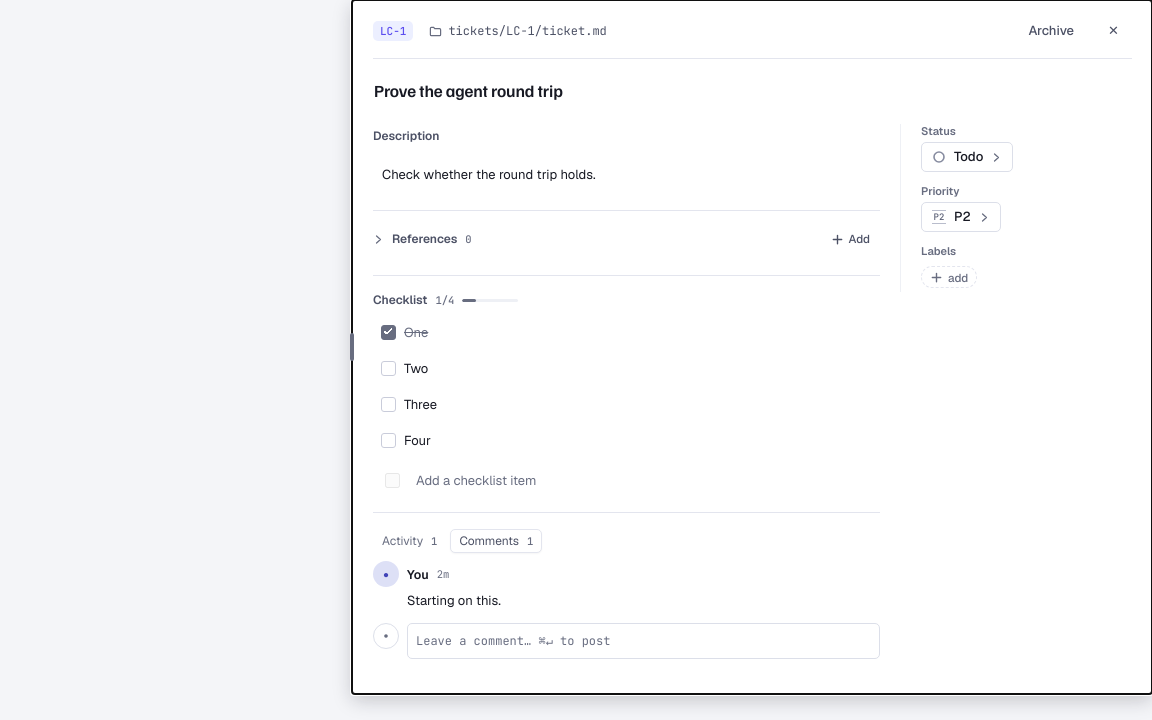
the checklist meter in the panel › fills to the fraction beside it, and moves as a box is ticked
The width and height of the screenshot is (1152, 720).
Check: the text "1/4" is shown, box [436,293,454,307]
Click the checkbox labelled "Two". click: point(388, 368)
box: [381,361,396,376]
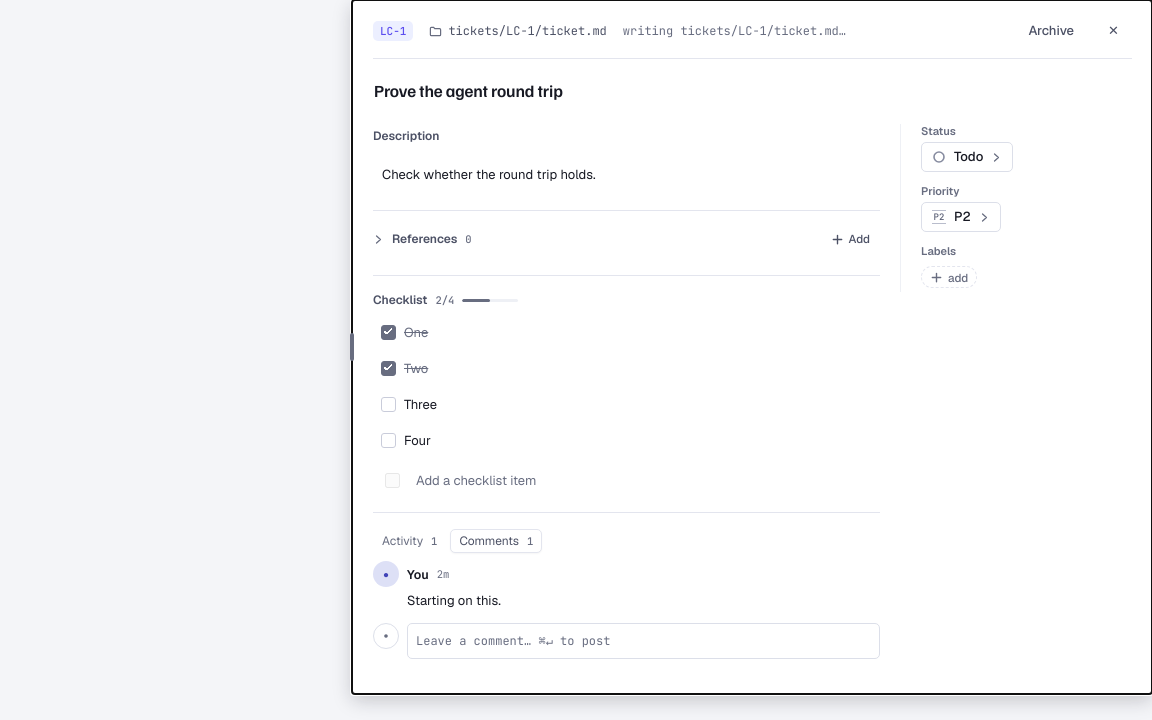
Check: the text "2/4" is shown, box [436,293,454,307]
